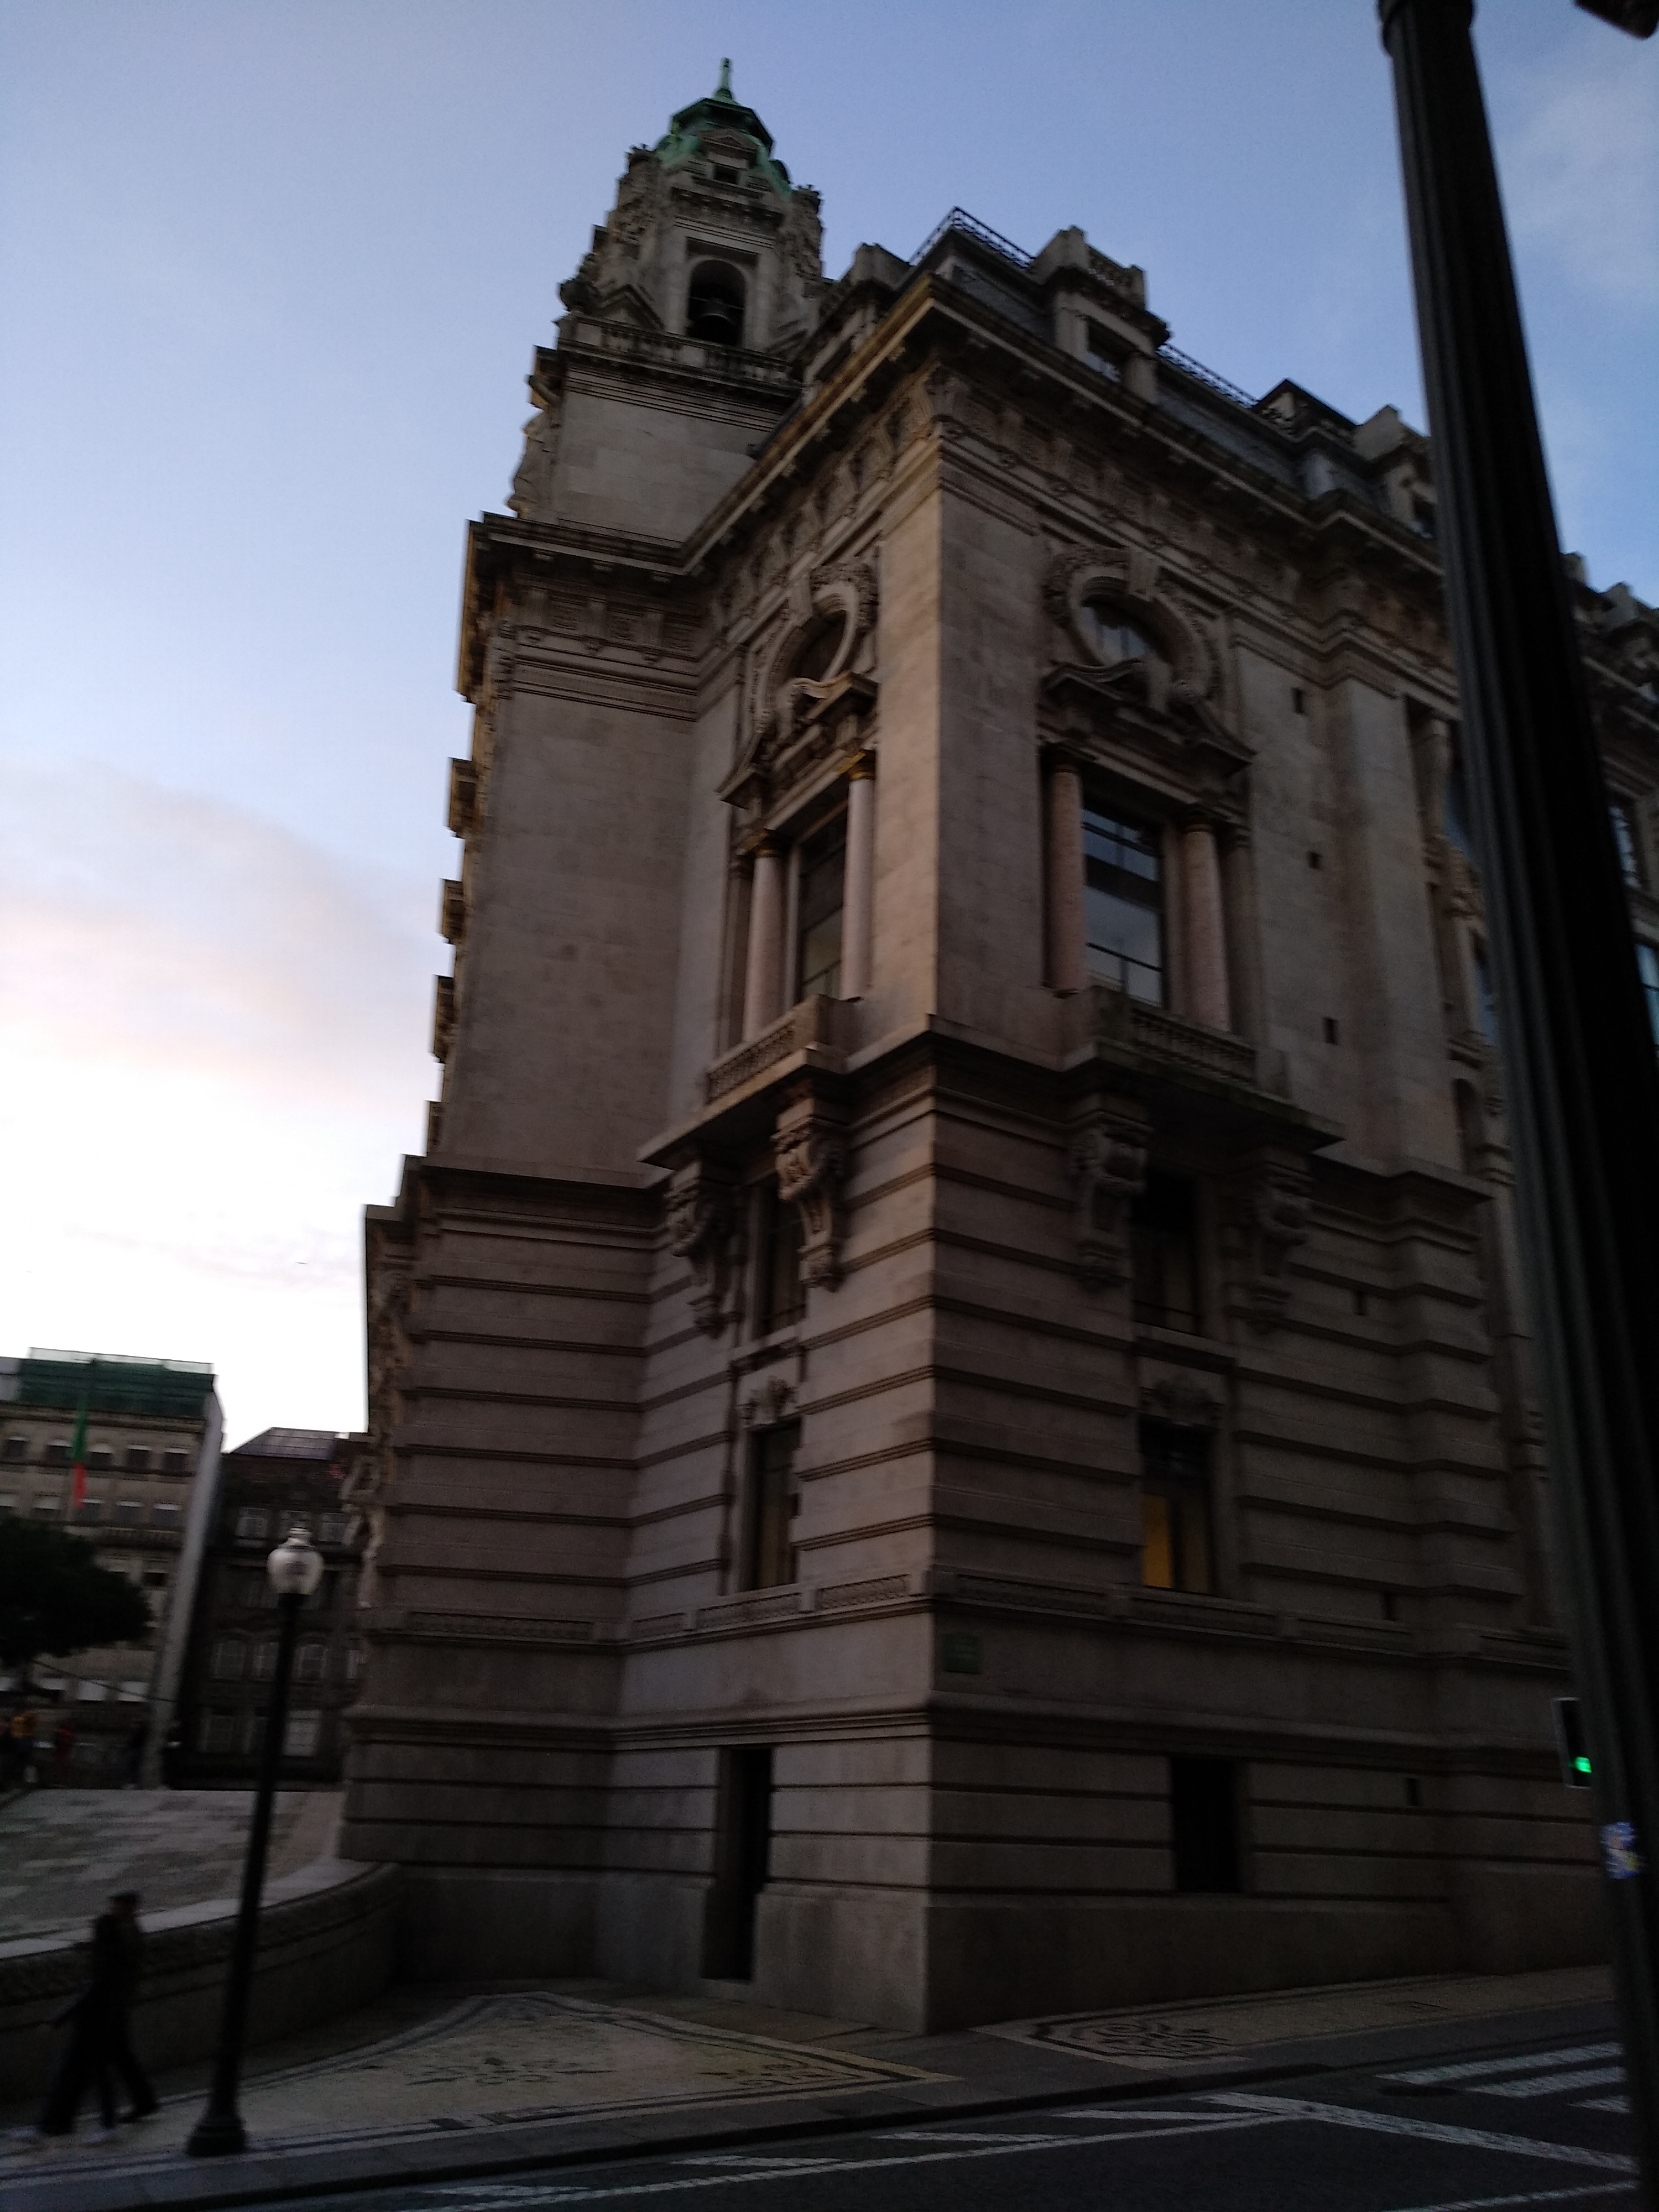camara: (324, 23, 1335, 2024)
